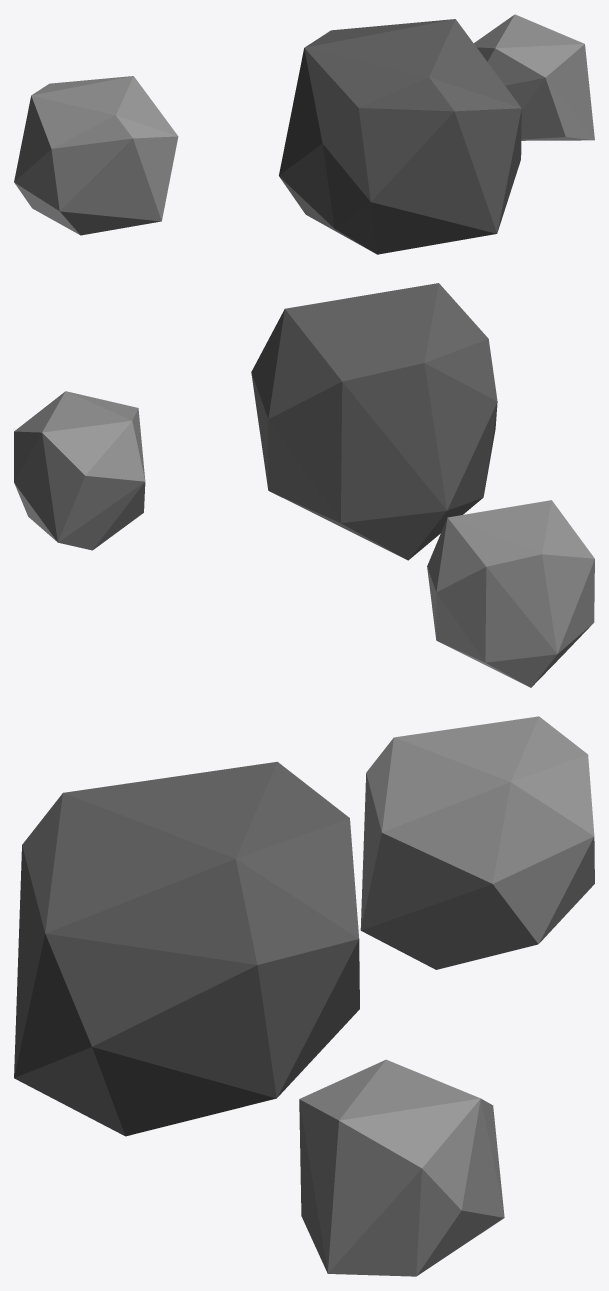
Rendered from EM_Rock02b.fbx.
The picture shows the model from 3 angles, top to bottom: view 1: azimuth 30°, elevation 25°; view 2: azimuth 150°, elevation 25°; view 3: azimuth 270°, elevation 25°; orthographic projection. The views are drawn at different scales.
Parts seen in each view (by area): view 1: EM_Rock02b_LOD0; view 2: EM_Rock02b_LOD0; view 3: EM_Rock02b_LOD0.
Part boxes in pixels (bbox=[...]): EM_Rock02b_LOD0: bbox=[14, 14, 594, 254]; EM_Rock02b_LOD0: bbox=[14, 283, 594, 687]; EM_Rock02b_LOD0: bbox=[14, 716, 594, 1276].
Size of what is drawn, in the model's own units: 0.6811 by 0.2417 by 0.4199.
